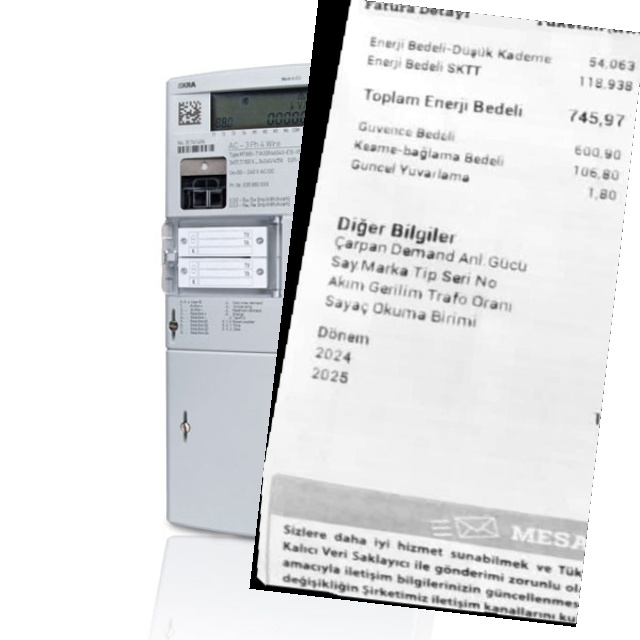electricity-bill: (248, 0, 640, 627)
